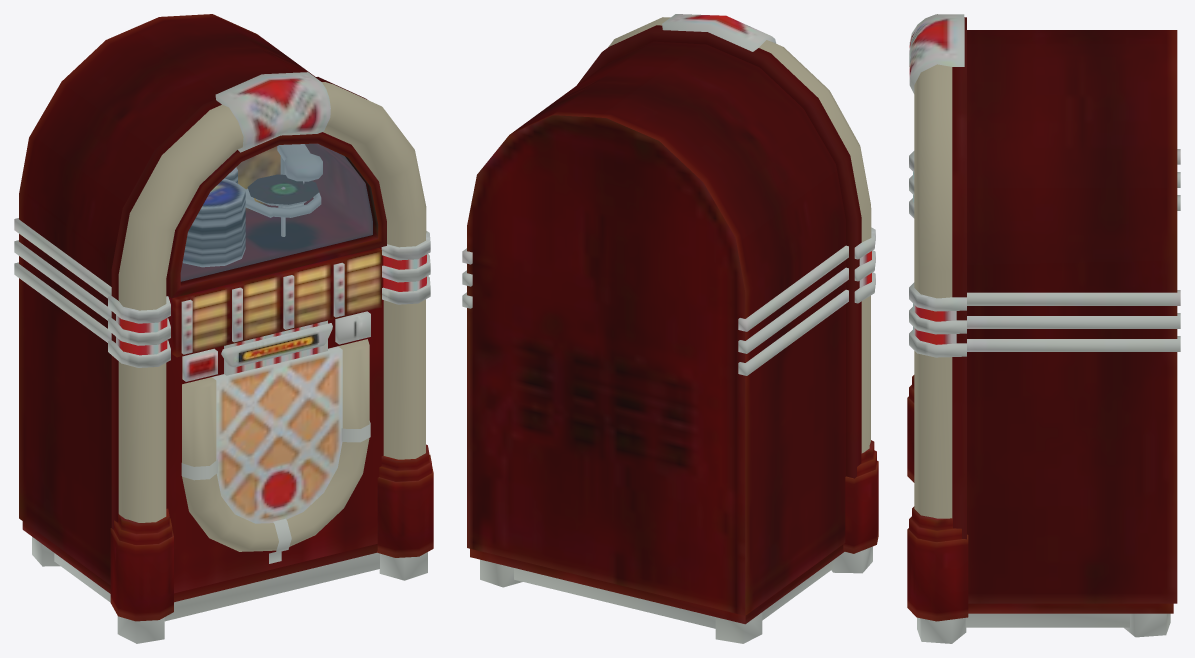
3 views of the same model, side by side, from view 1: azimuth 30°, elevation 25°; view 2: azimuth 150°, elevation 25°; view 3: azimuth 270°, elevation 25° (orthographic). The views are drawn at different scales.
Bounding box in the file's own units: 8.94 × 14.12 × 6.49.
3 materials, 2 textured.
